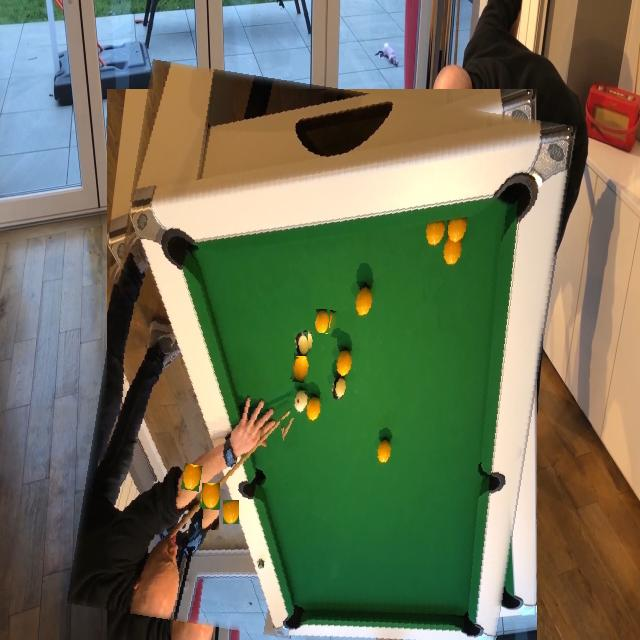Ball: (281, 419, 299, 449), (202, 483, 220, 509), (292, 357, 309, 384), (202, 507, 219, 530), (239, 277, 255, 301), (223, 500, 239, 524), (329, 314, 345, 338), (316, 309, 330, 333), (295, 332, 309, 356)
Billiard table: (86, 74, 557, 640)
